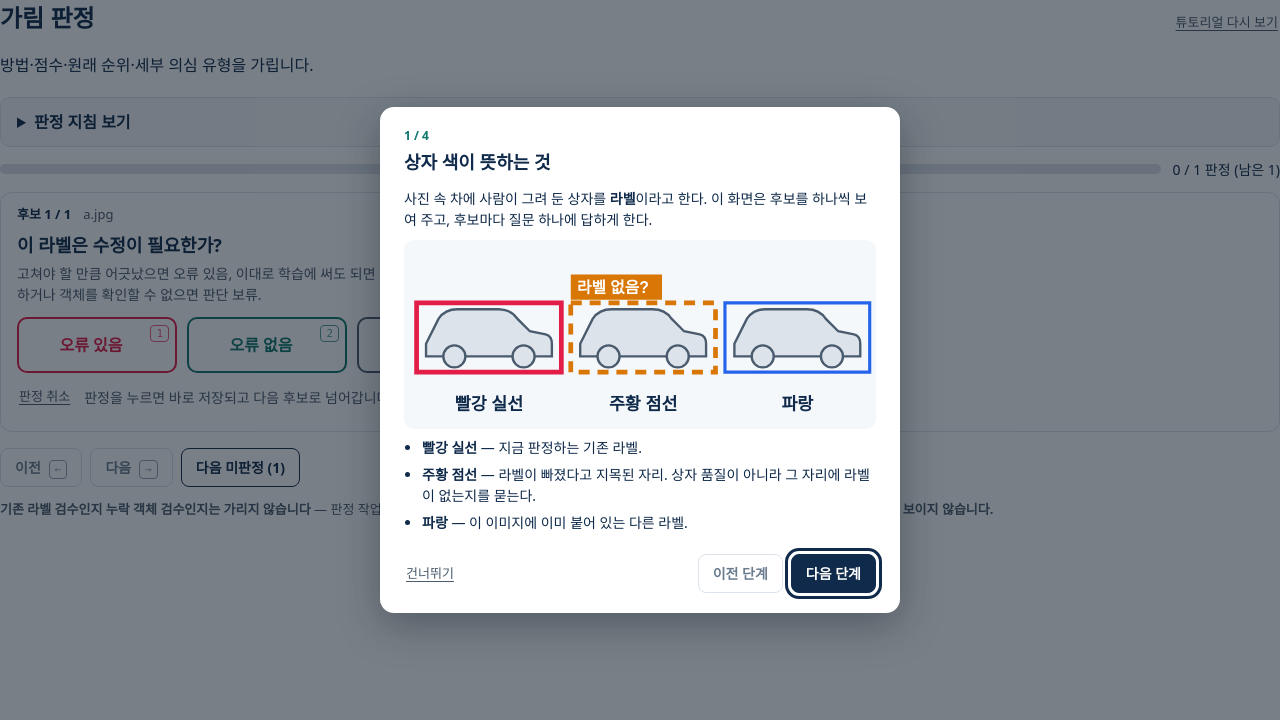
첫 방문 튜토리얼 › 처음 오면 뜨고, 끝까지 넘겨 닫으면 기억한다
The image size is (1280, 720).
Expected: the dialog shows "상자 색", 404,150 -> 550,174
Click the button "다음 단계": (833, 574) 791,554 -> 876,593
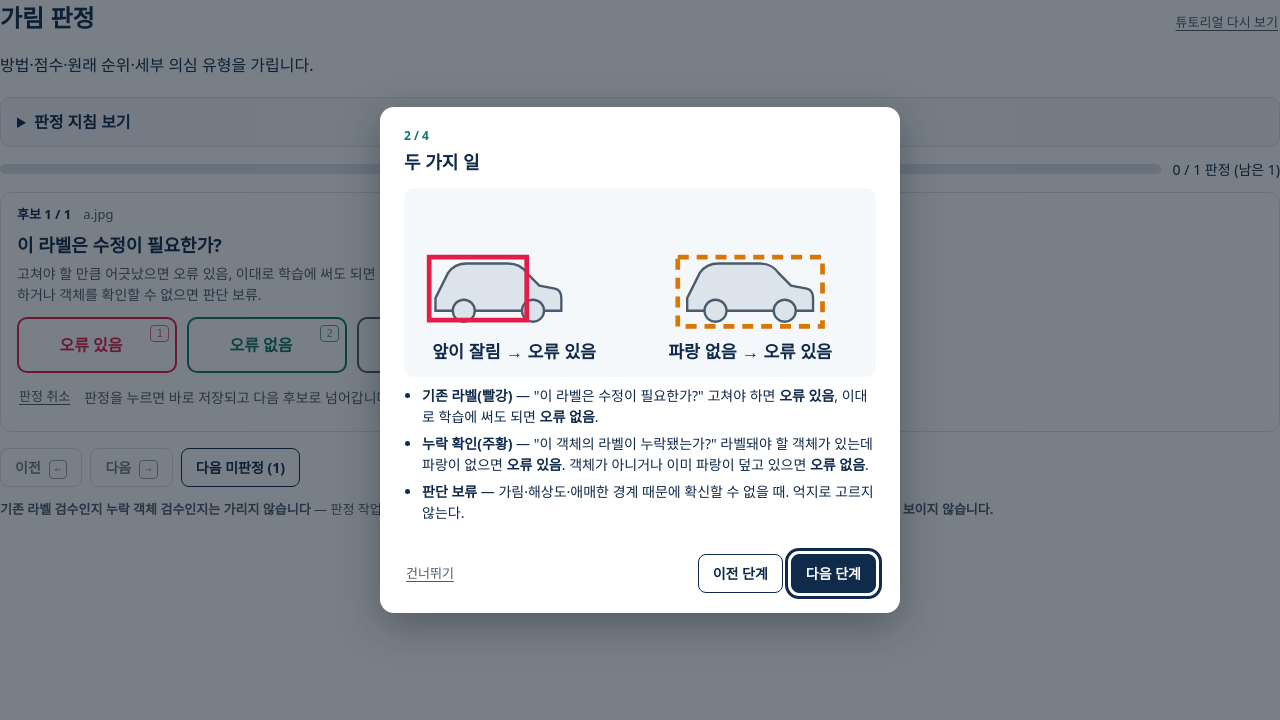
Click the button "다음 단계": (833, 574) 791,554 -> 876,593
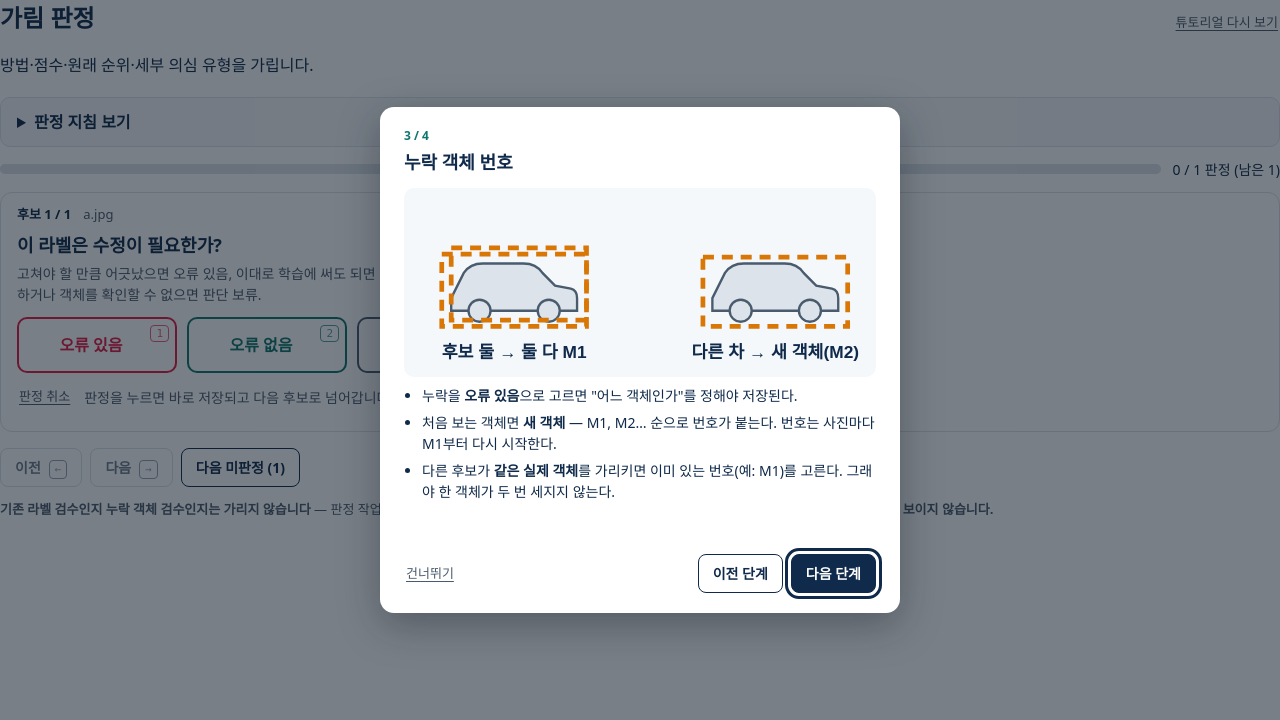
Click the button "다음 단계": (833, 574) 791,554 -> 876,593
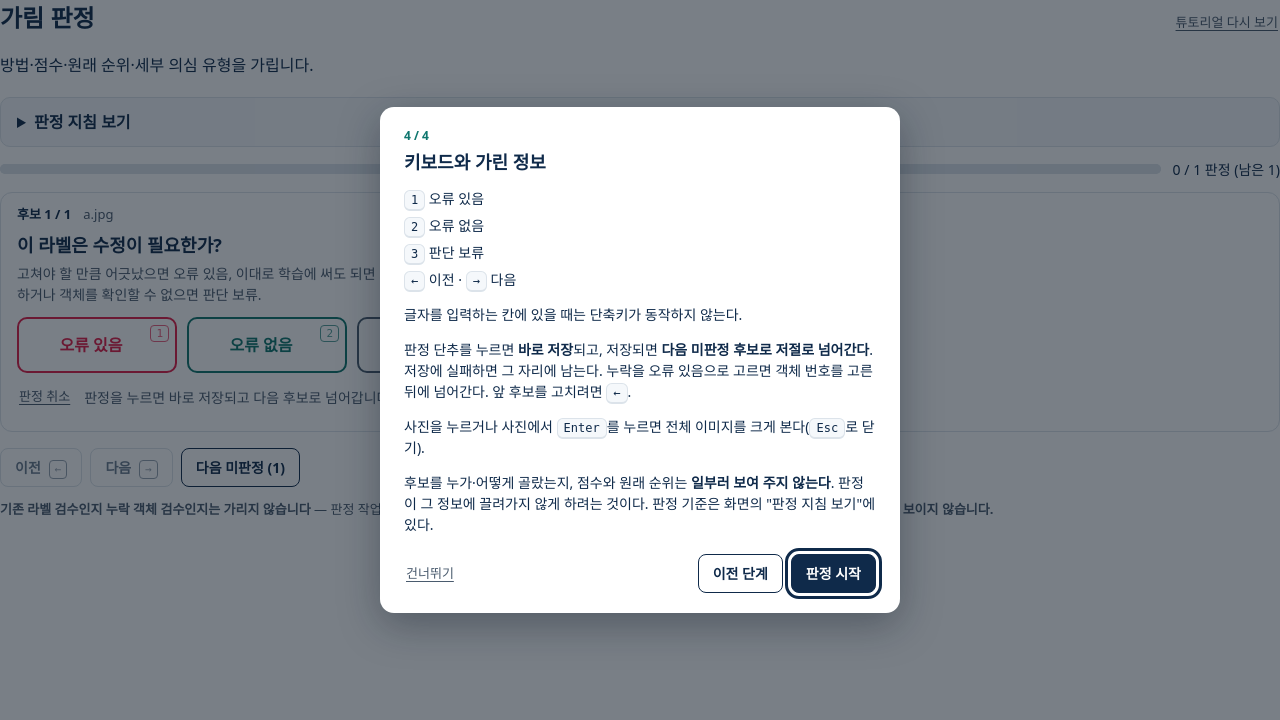
Now the dialog shows "키보드", box 380,107 -> 900,613
Click the button "판정 시작": (833, 574) 791,554 -> 876,593
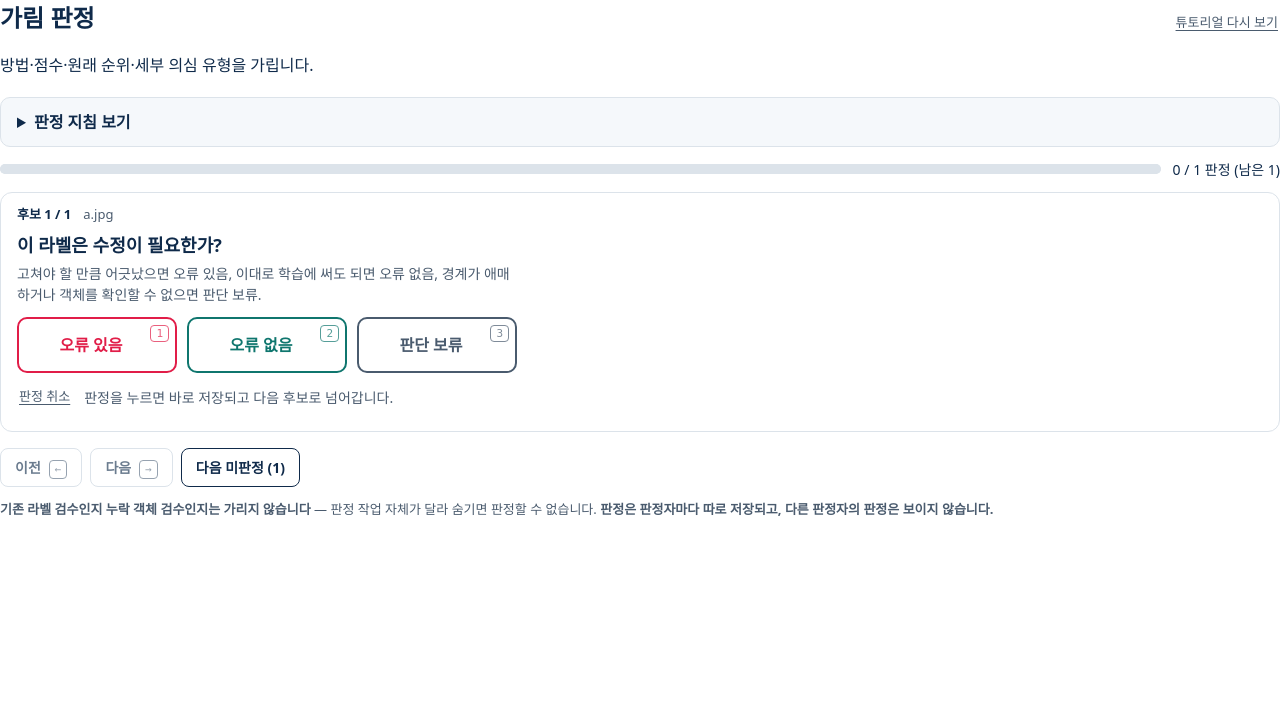
Now the dialog is gone
